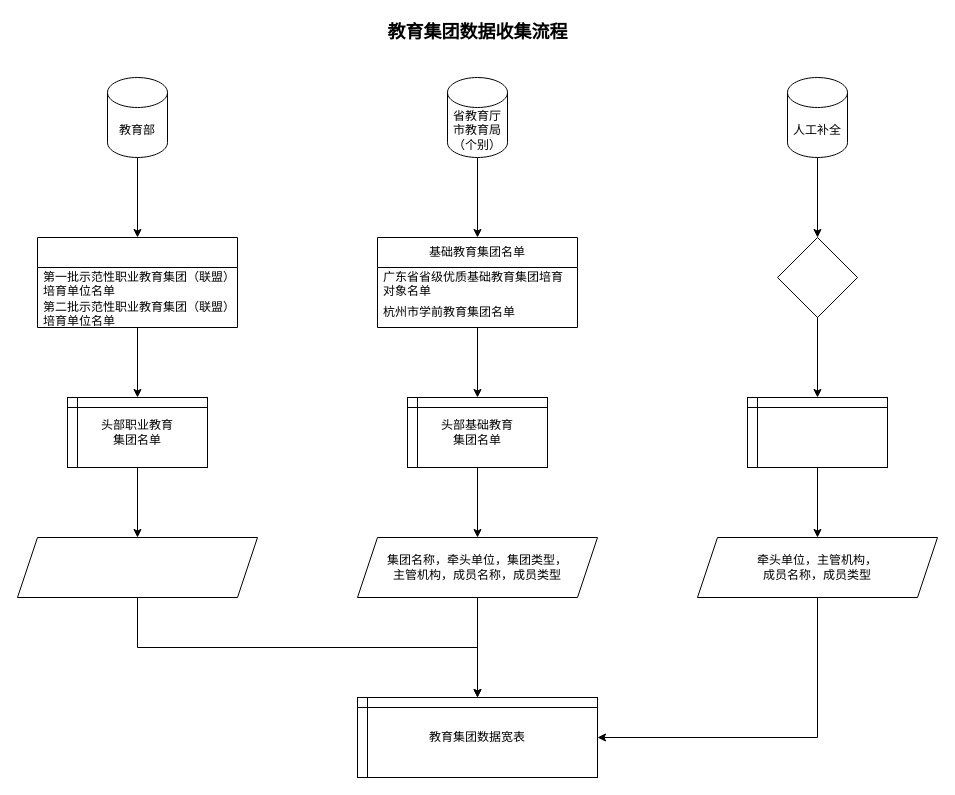
Some shapes in this 955 by 795 pixel diagram are drawn without their labels. The shapes that lost their labels are listed below. From the top down, each one's box as (x1, y1, x2, y2) in pixels, then its label:
(36, 236, 238, 328): 职业教育集团名单
(776, 236, 858, 318): 人工搜索
(746, 396, 888, 468): 教育集团各类数据 人工补全表
(16, 536, 258, 598): 集团名称，牵头单位，集团类型
